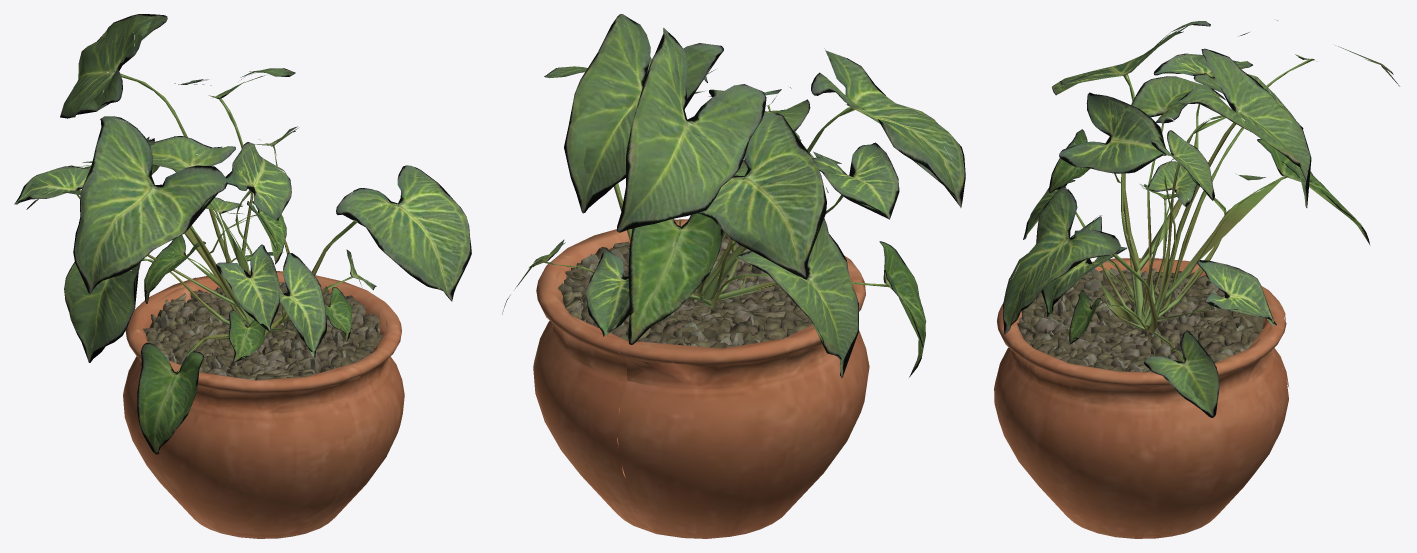
File: diner-plant.glb
The picture shows the model from 3 angles, left to right: view 1: azimuth 30°, elevation 25°; view 2: azimuth 150°, elevation 25°; view 3: azimuth 270°, elevation 25°; orthographic projection. The views are drawn at different scales.
Parts seen in each view (by area): view 1: Detailed view (×3), Room view (×3); view 2: Detailed view (×3), Room view (×3); view 3: Detailed view (×3), Room view (×3).
Boxes of the visible parts, bbox=[...] form: Detailed view (×3): bbox=[14, 14, 471, 538]; Room view (×3): bbox=[14, 14, 471, 453]; Detailed view (×3): bbox=[502, 14, 965, 538]; Room view (×3): bbox=[529, 14, 962, 537]; Detailed view (×3): bbox=[994, 20, 1393, 538]; Room view (×3): bbox=[1003, 26, 1399, 432].
Bounding box in the file's own units: 0.7008 × 0.8416 × 0.657.
2 materials, 2 textured.
